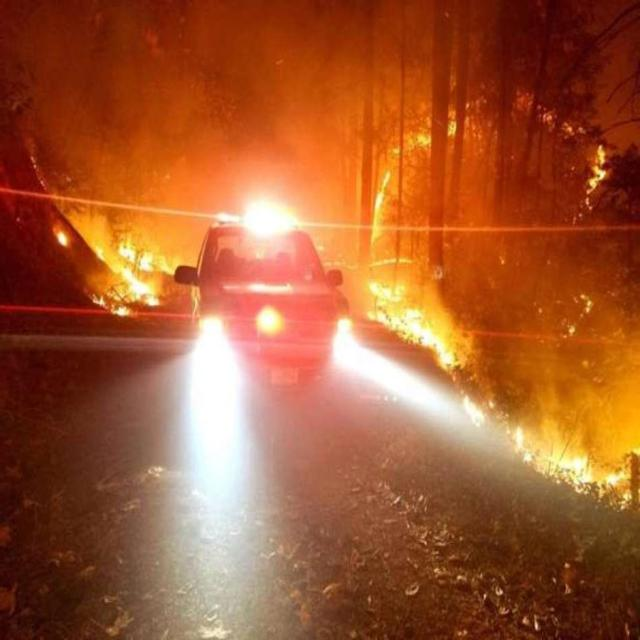Fire: (363, 259, 476, 365), (365, 109, 455, 241), (54, 231, 163, 332), (517, 417, 630, 489), (576, 138, 614, 211)
